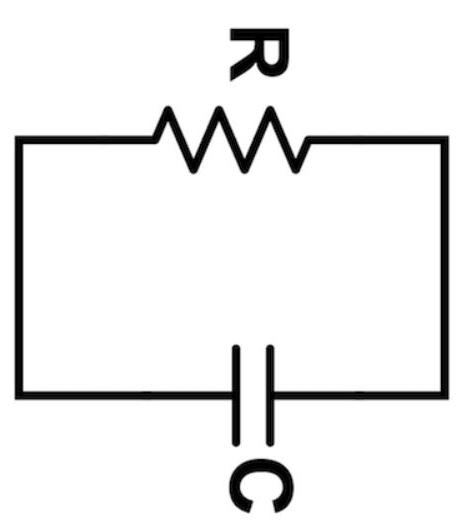Capacitor: (185, 316, 307, 452)
